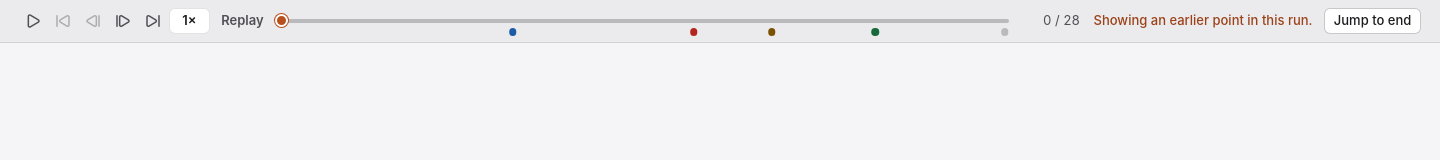
Scenario: the timeline › steps, and jumps to the previous and next notable event by button and with Shift and the arrows
Click the button named "Step forward" at (123, 21), box [109, 7, 137, 35]
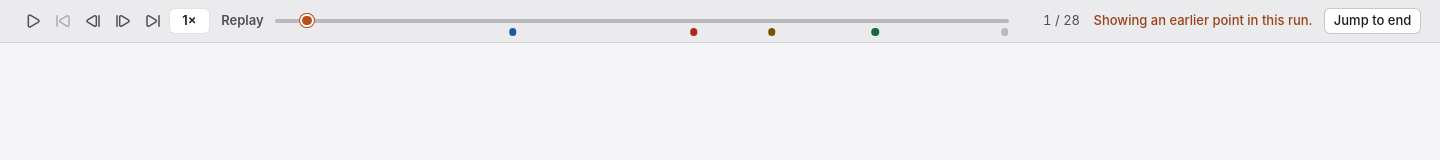
Click the button named "Step back" at (93, 21), box [79, 7, 107, 35]
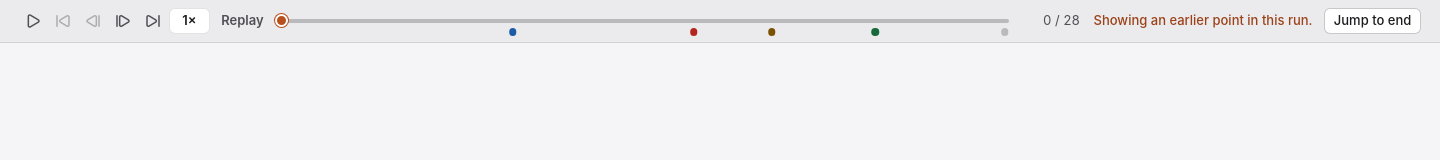
Click the button named "Next notable event" at (153, 21), box [139, 7, 167, 35]
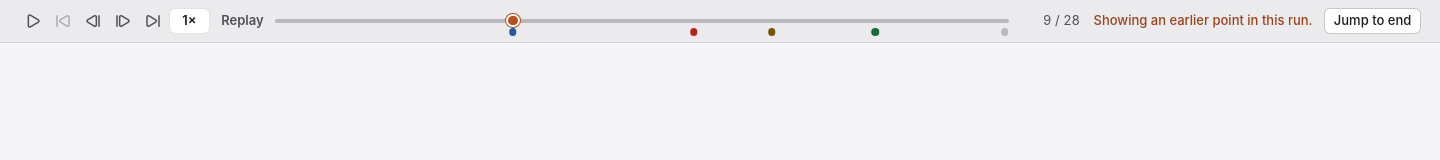
Press ArrowRight in the slider, box [275, 13, 1009, 28]
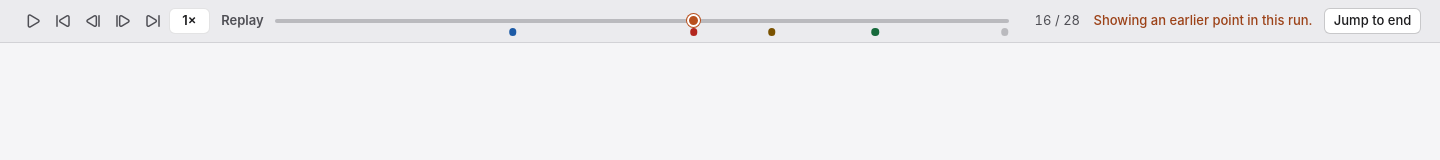
Press ArrowLeft in the slider, box [275, 13, 1009, 28]
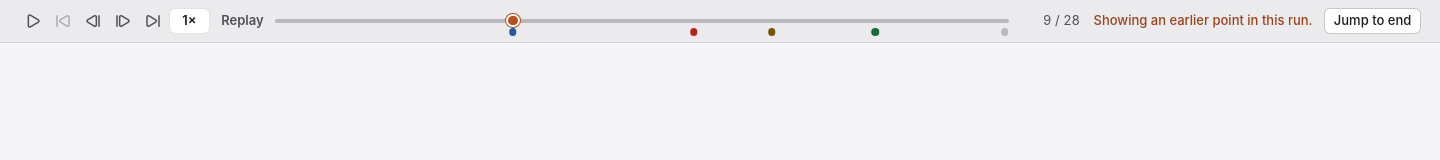
Expected: the button named "Previous notable event" is disabled, [49, 7, 77, 35]
